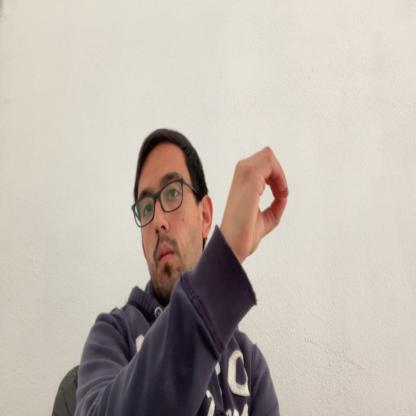O: (227, 146, 289, 258)
